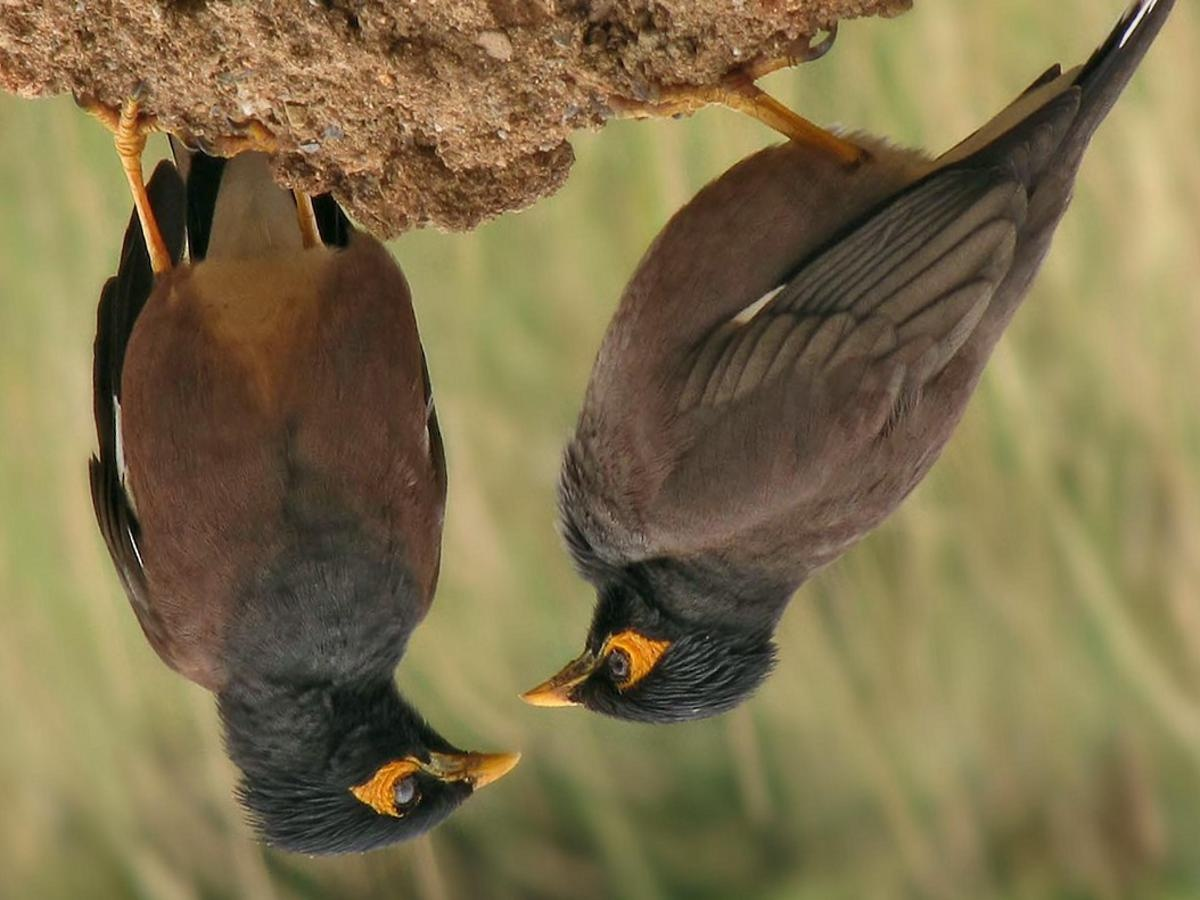myna: (56, 88, 518, 823), (531, 111, 1067, 732)
